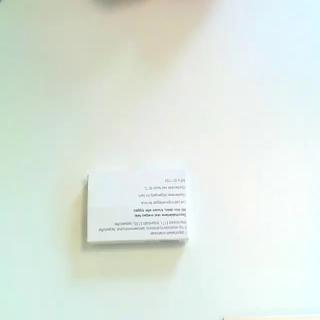oxycontin5mg: (85, 169, 191, 247)
